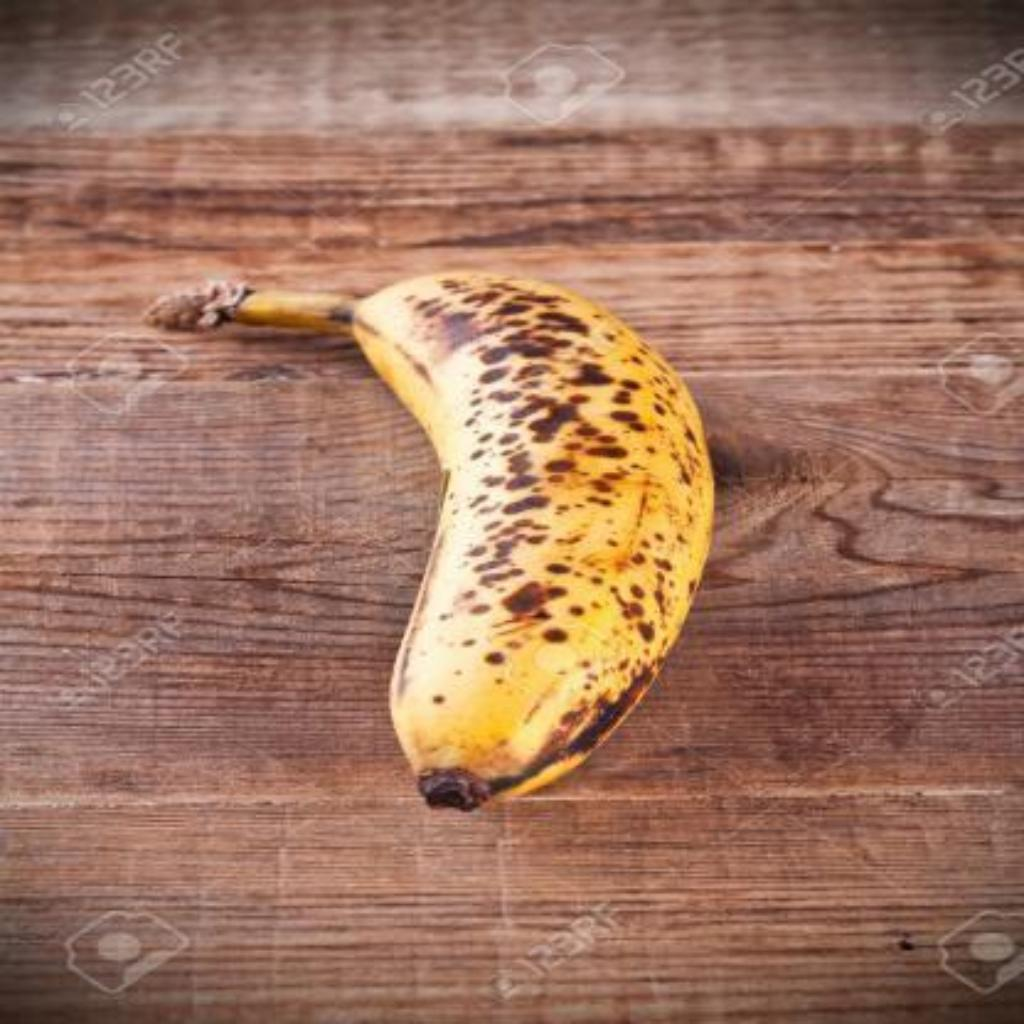banana: (332, 271, 714, 817)
